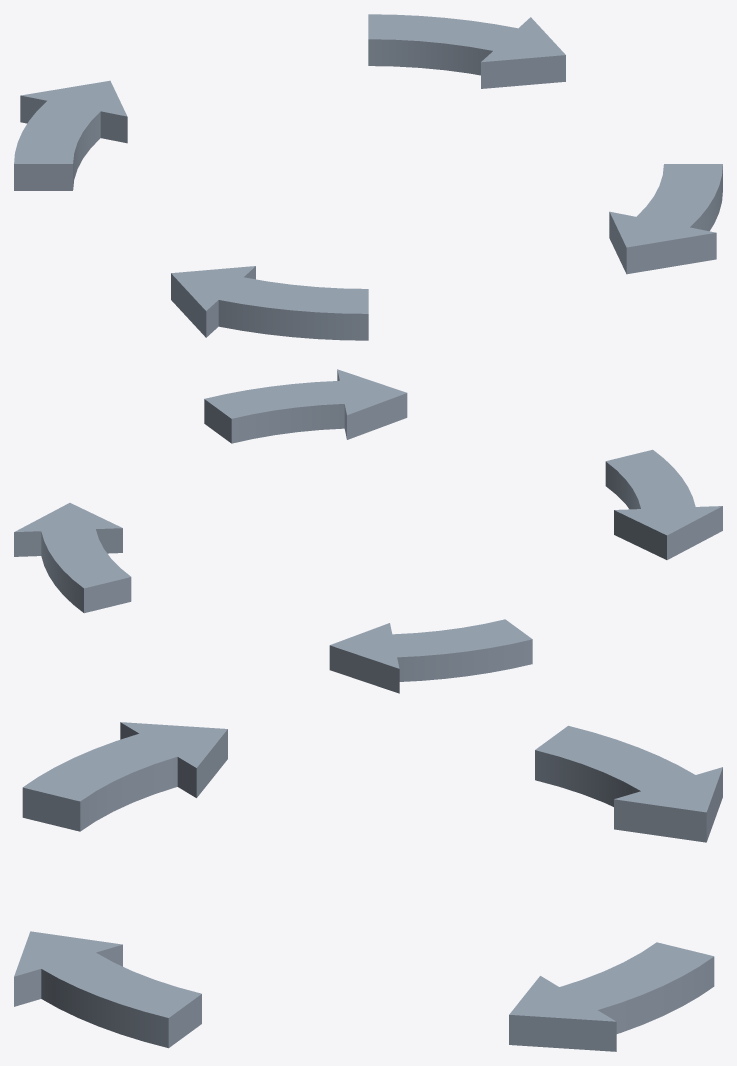
The model's file is reactor_arrows.obj.
3 renders of one model, top to bottom at view 1: azimuth 30°, elevation 25°; view 2: azimuth 150°, elevation 25°; view 3: azimuth 270°, elevation 25°, orthographic. The views are drawn at different scales.
Visible parts, largest first — view 1: 1; view 2: 1; view 3: 1.
Boxes of the visible parts, x1,y1,x2,y2 form: 1: (14, 14, 722, 340); 1: (14, 369, 722, 693); 1: (14, 722, 722, 1051).
Size of the model in its own units: 21.3 by 1 by 21.3.
